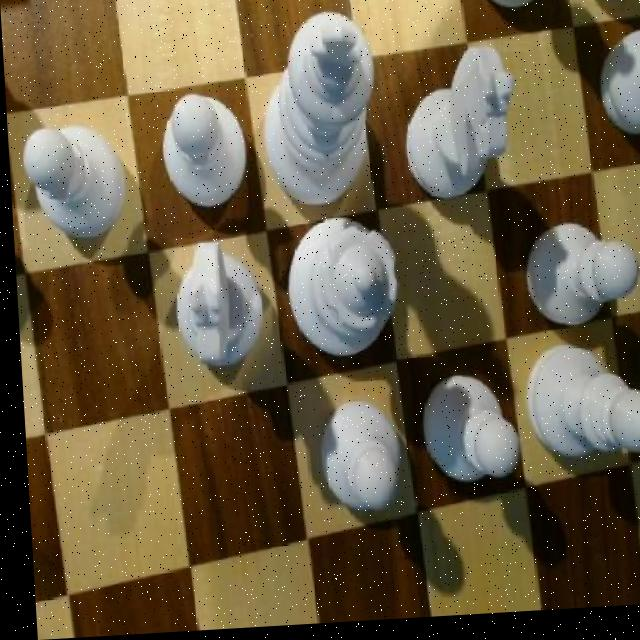black-rook: (516, 349, 640, 475)
white-bishop: (253, 12, 378, 214)
white-king: (392, 44, 515, 208), (166, 239, 265, 375)
white-knight: (515, 226, 640, 341), (17, 121, 126, 251), (414, 374, 513, 494), (154, 89, 246, 218), (310, 402, 399, 522)
white-pawn: (282, 220, 396, 372)
